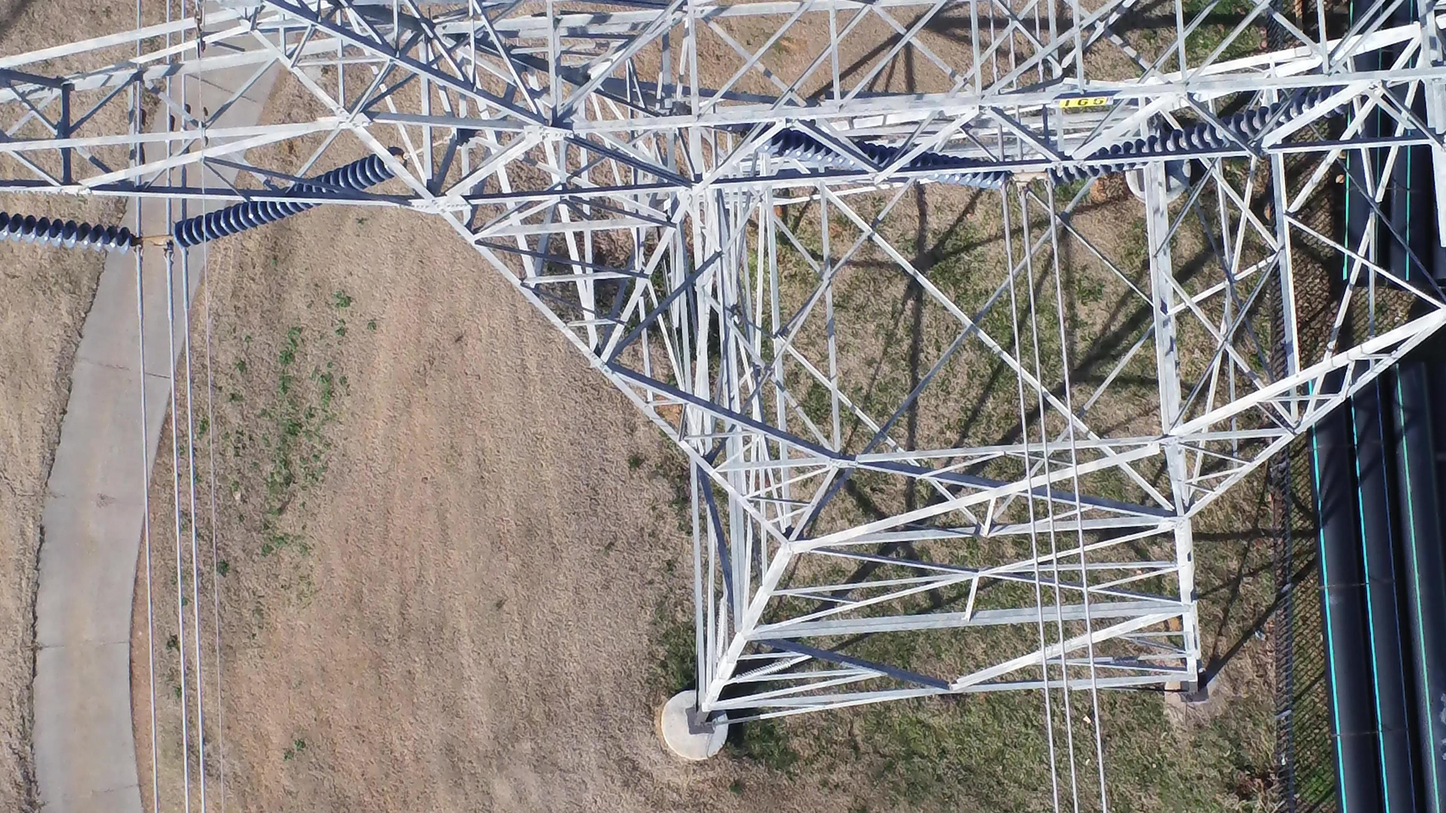power_tower: (0, 0, 1446, 760)
